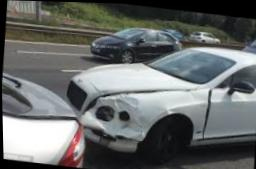Fender: (79, 85, 205, 141)
